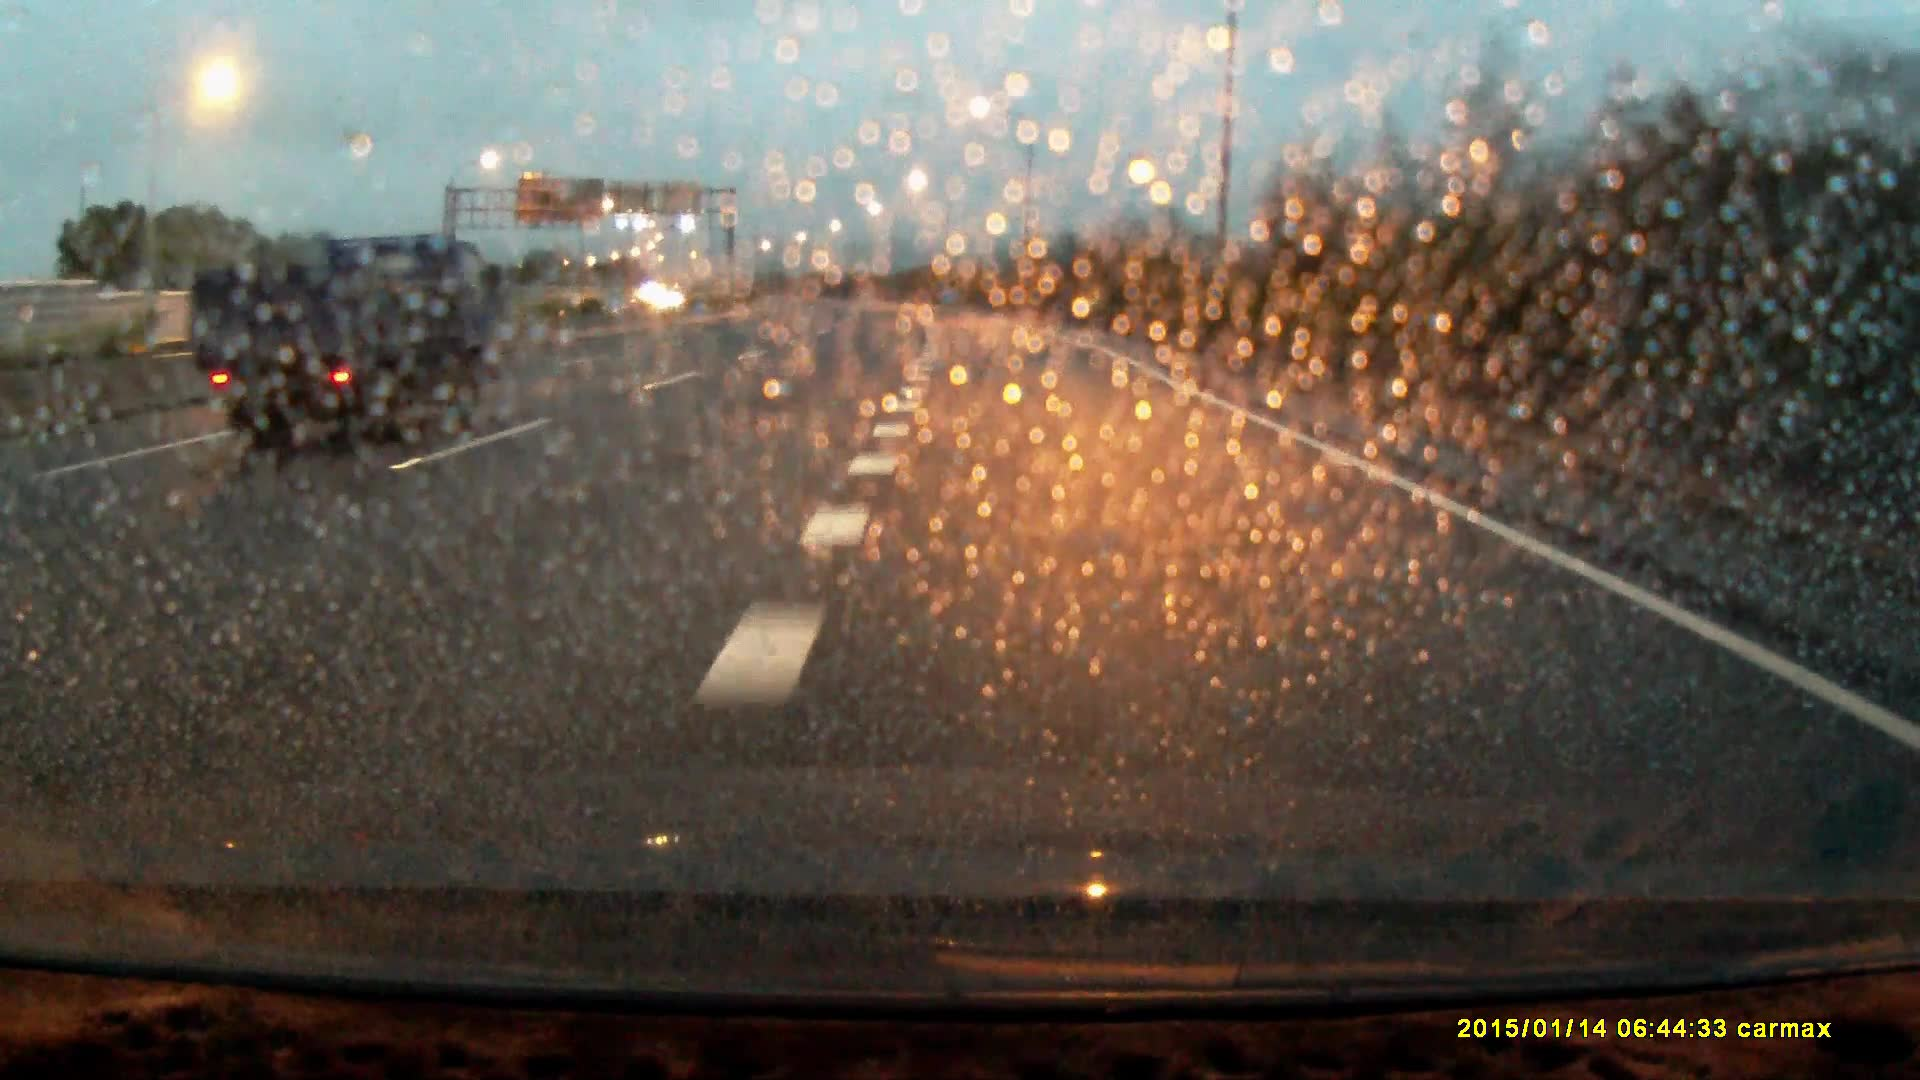vehicle: (200, 233, 481, 462)
